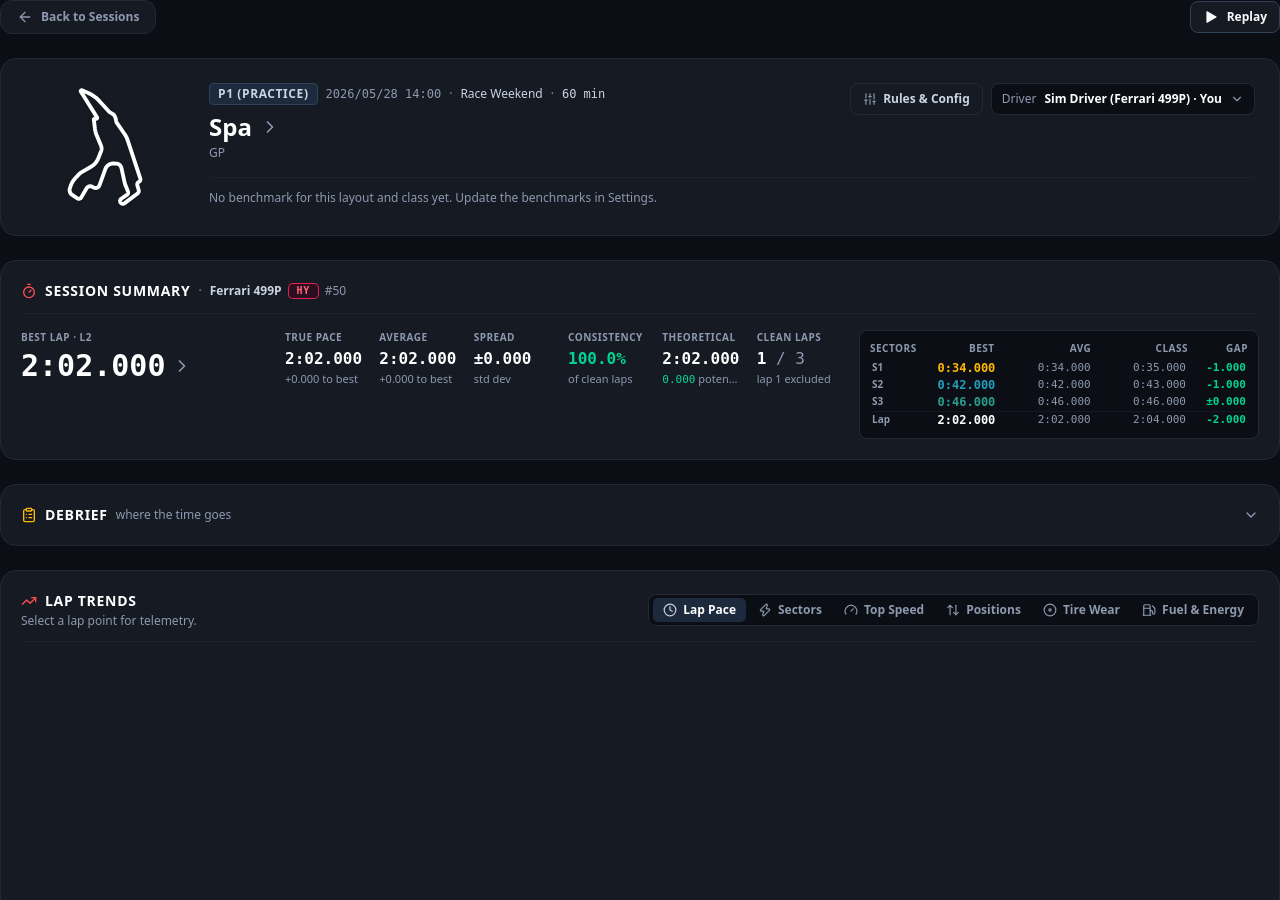
Test case: SessionDetail component - overview, telemetry & settings › renders session rules and server configuration button with modal dialog
The width and height of the screenshot is (1280, 900).
expect the text "Race Weekend" is shown: met, box [460,86,543,102]
expect the text "60 min" is shown: met, box [562,86,605,102]
Click button to open modal dialog with full configuration
Click the button "Rules & Config": (916,99) [850,83,983,115]
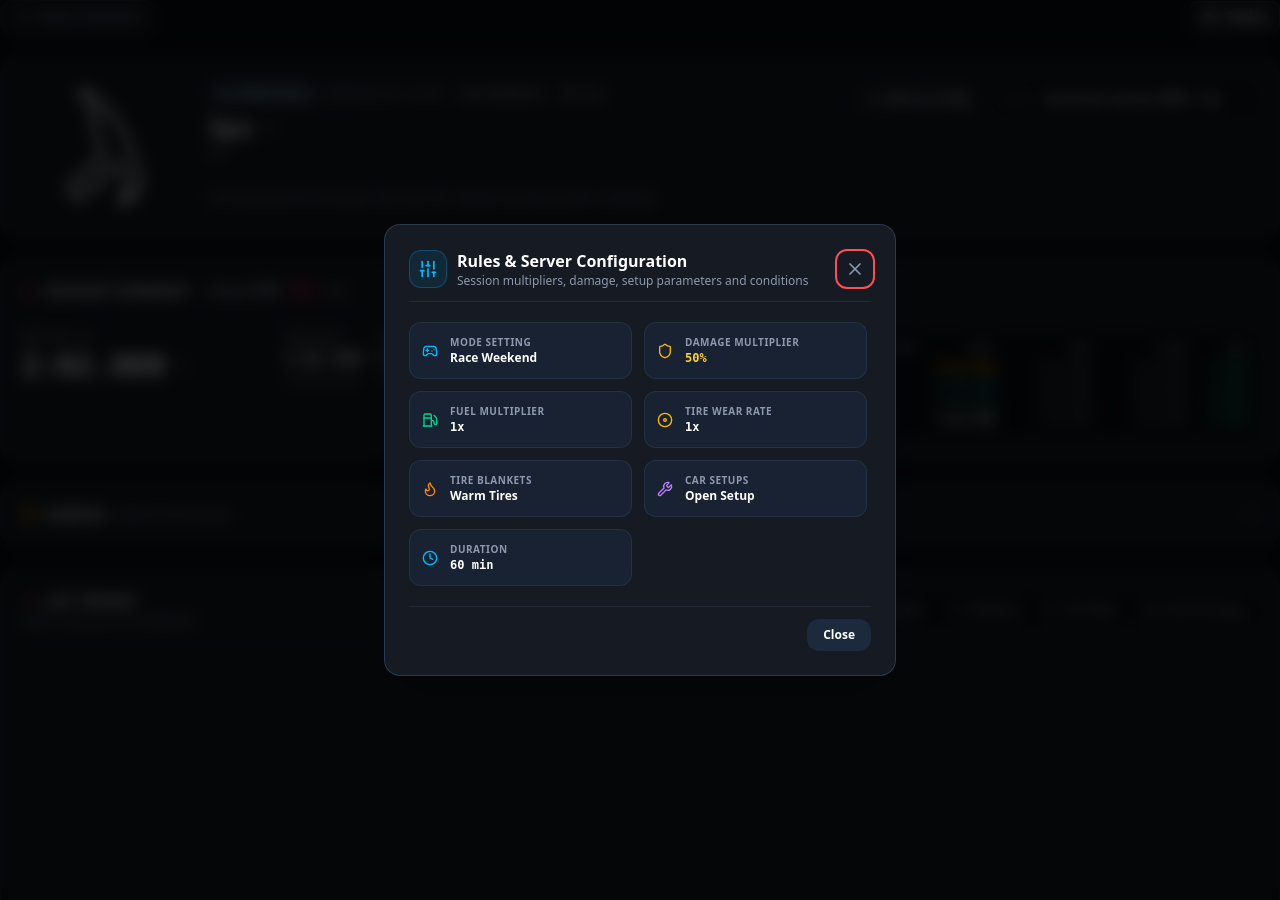
expect the dialog is shown: met
expect the text "50%" is shown: met, box [685,351,707,365]
expect the text "Warm Tires" is shown: met, box [450,487,518,504]
